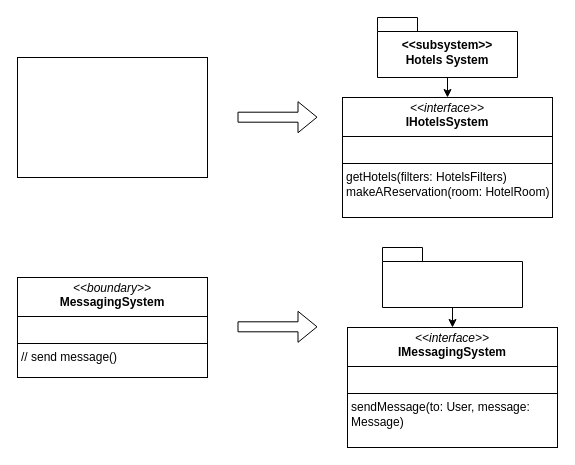
Image size: 575x465. Some labels were removed from this diagram. The centre of each missing label's shape, as x and y in pixels:
"<<boundary>> HotelsSystem // get hotels() // make a reservation()" belongs at pixel 112 117.
"<<subsystem>> Messaging System" belongs at pixel 452 277.
